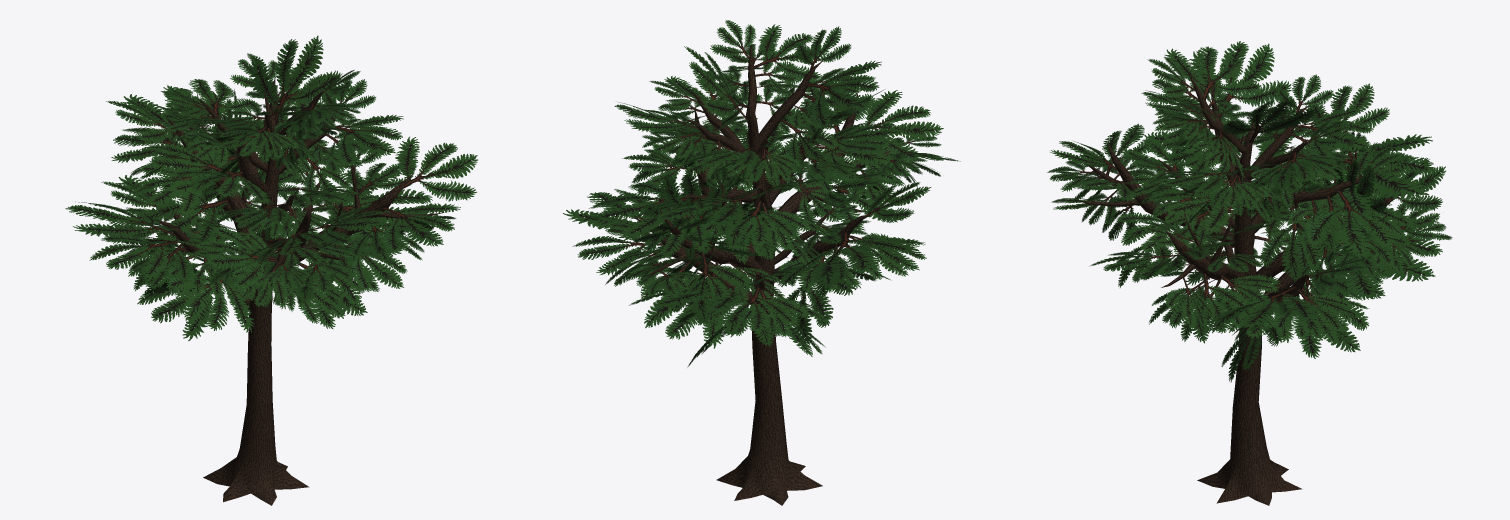
Rendered from Tree.glb.
3 renders of one model, left to right at view 1: azimuth 30°, elevation 25°; view 2: azimuth 150°, elevation 25°; view 3: azimuth 270°, elevation 25°, orthographic.
Visible parts, largest first — view 1: Tree; view 2: Tree; view 3: Tree.
Boxes of the visible parts, box(x1,y1,x2,y2) form: Tree: box(65, 35, 477, 505); Tree: box(563, 20, 960, 505); Tree: box(1047, 41, 1452, 505).
Size of what is drawn, in the model's own units: 11.73 by 11.5 by 11.65.
Materials: 2 (2 with a texture image).
